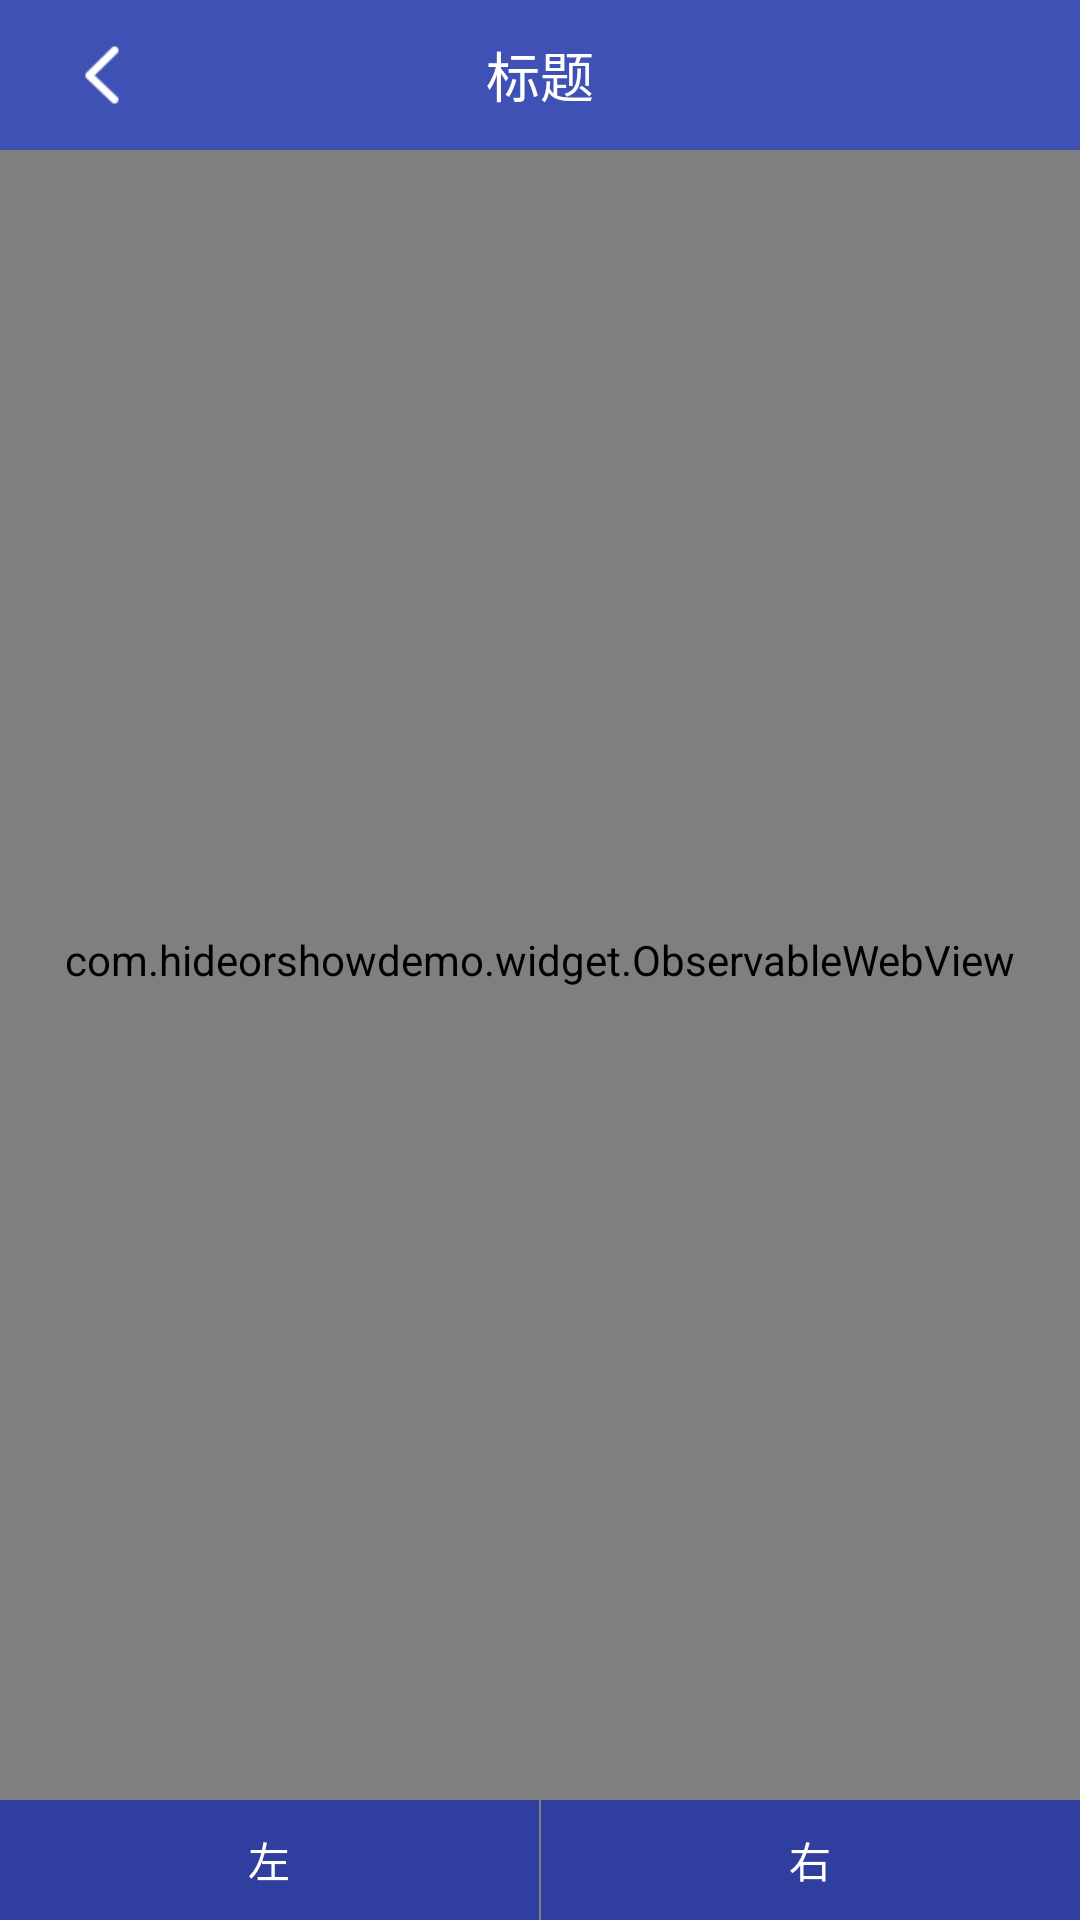

Locate icon controls on the screen. Image size 1080px×1920px, boxes as (x1, y1, x2, y2).
back: (85, 46, 119, 104)
